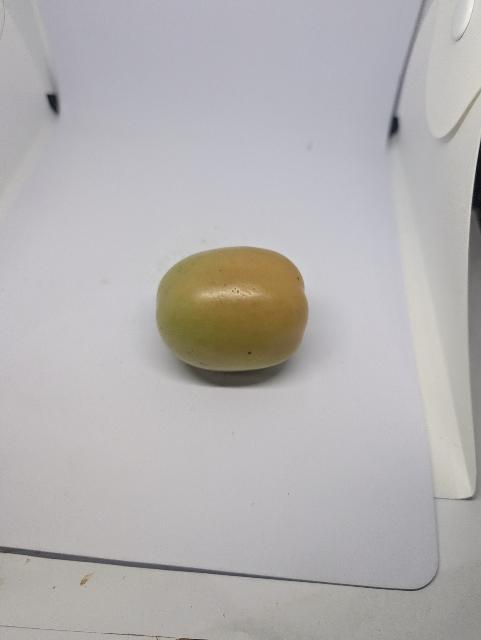breaker: (150, 245, 320, 381)
